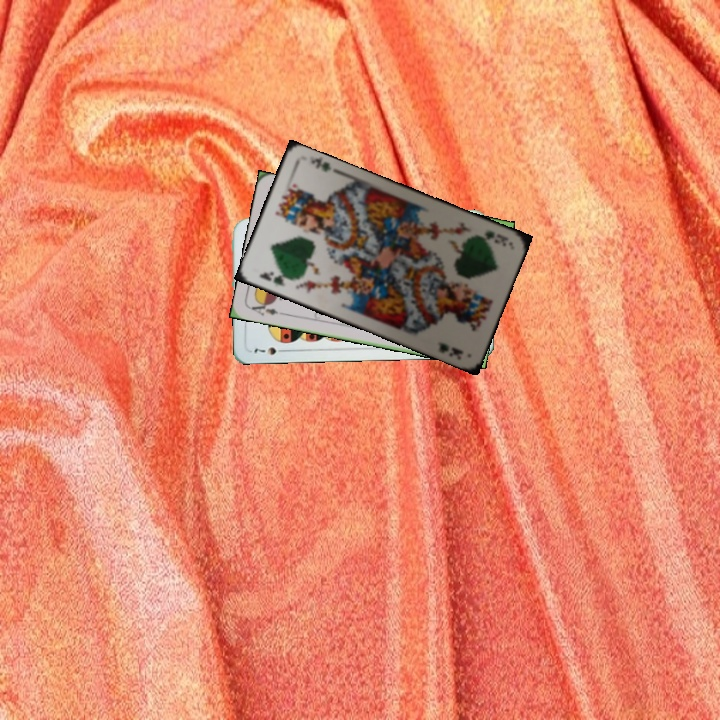EA: (247, 297, 287, 319)
GK: (255, 267, 294, 289), (481, 227, 511, 249)
S7: (249, 343, 289, 357)
